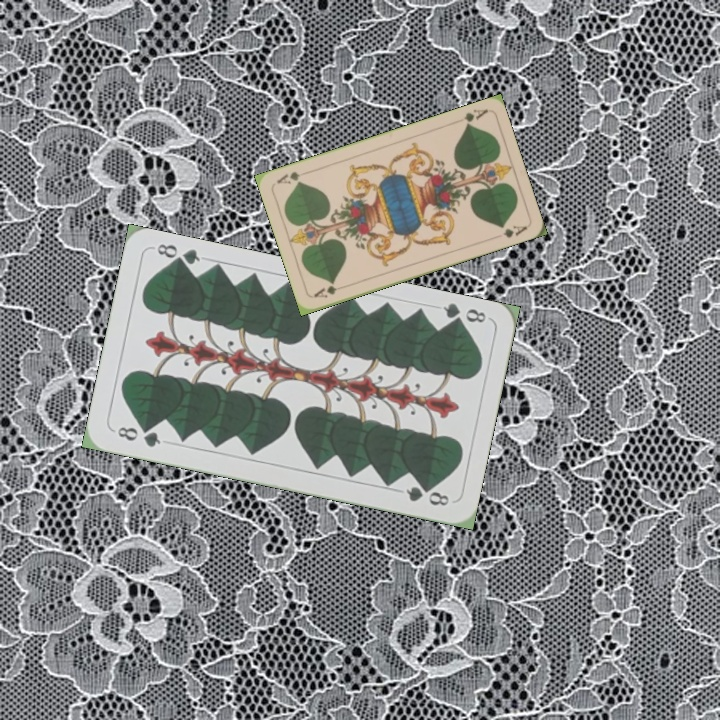G8: (439, 299, 489, 330), (110, 422, 163, 450)
GA: (310, 280, 349, 300), (459, 105, 490, 129)
